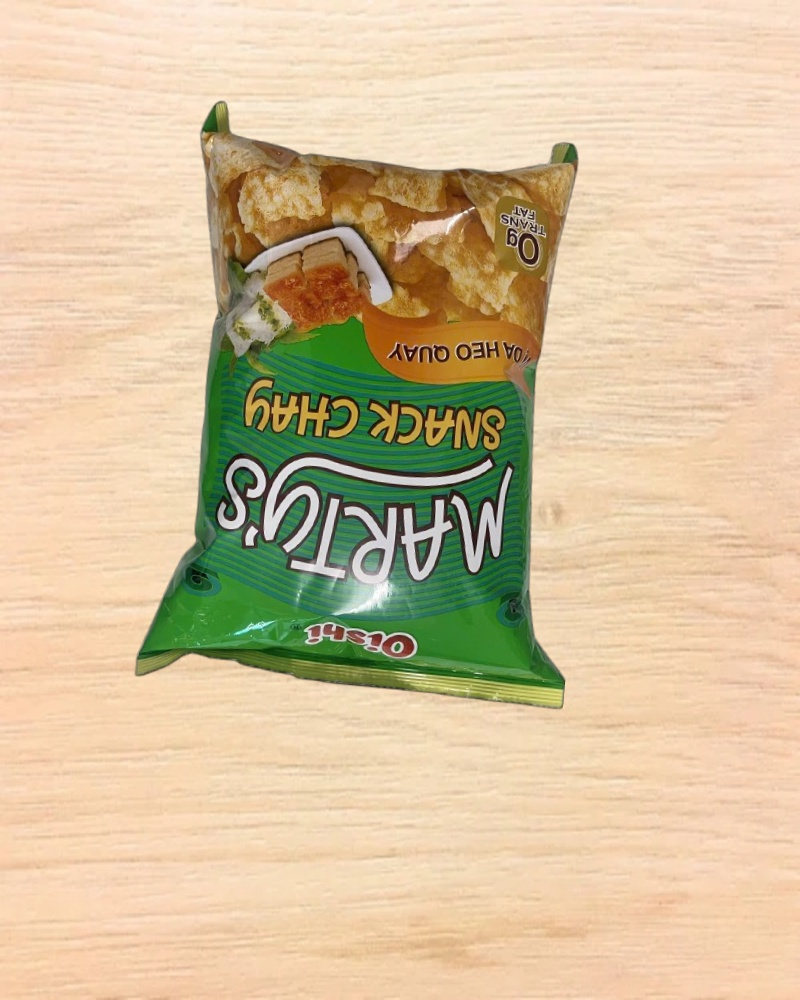Snack chay: (156, 102, 612, 714)
